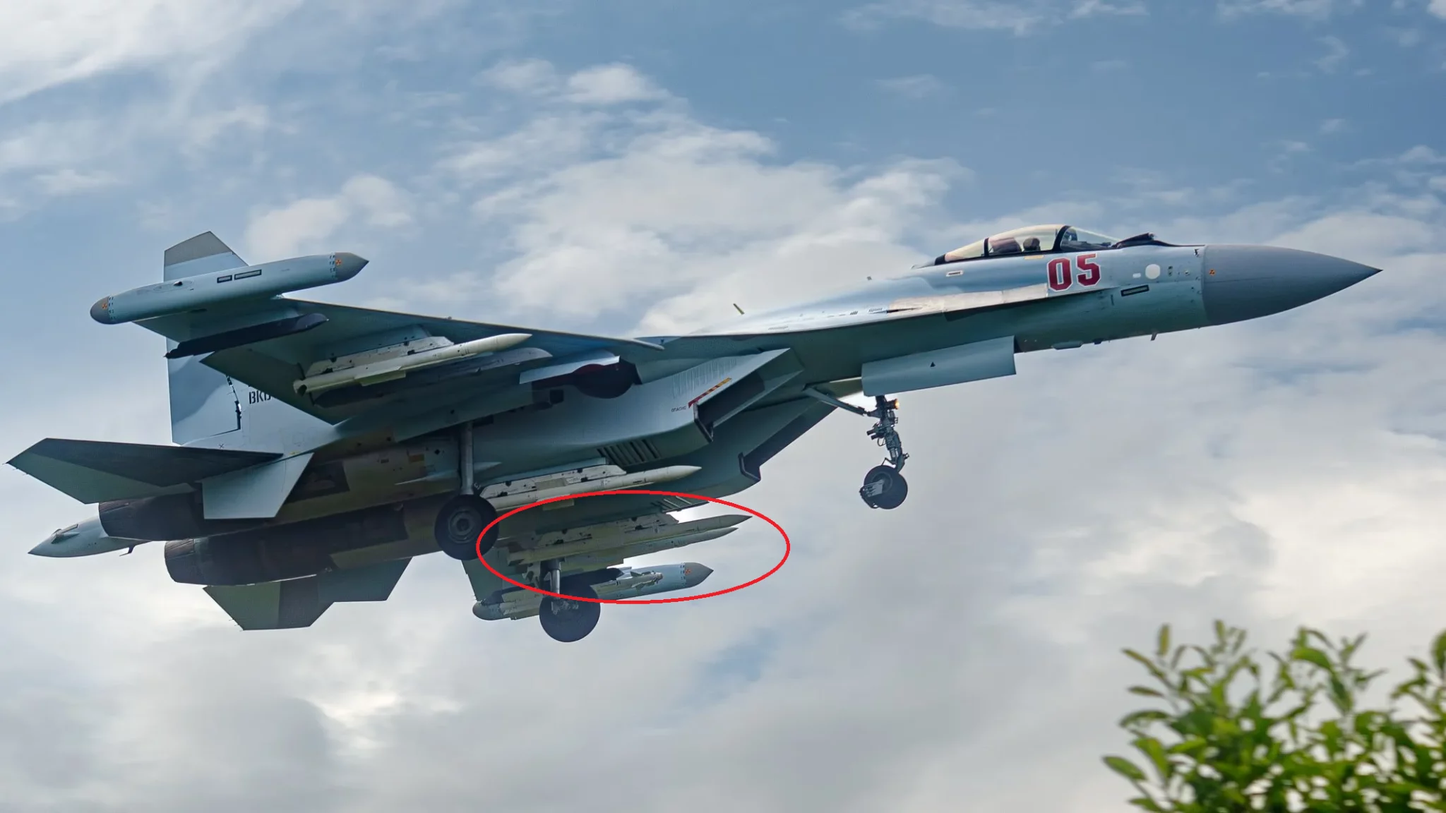Su35: (6, 202, 1400, 653)
